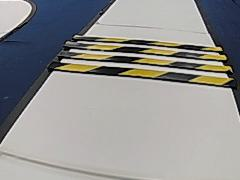bump: (43, 33, 239, 92)
